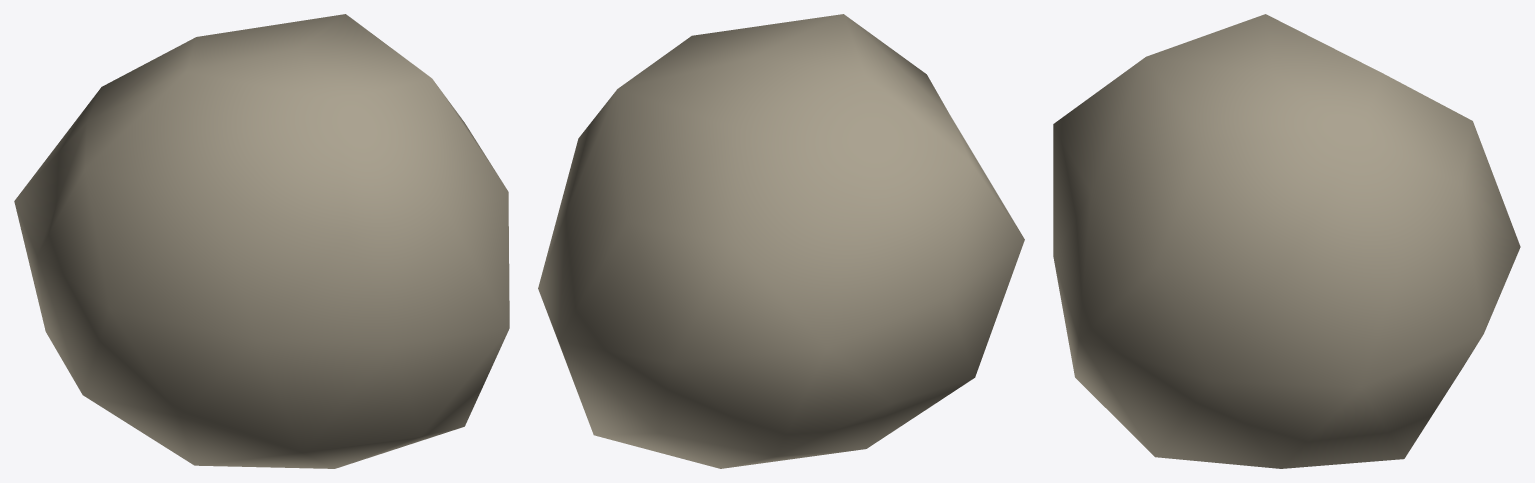
The model's file is material-stone-1.glb.
3 views of the same model, side by side, from view 1: azimuth 30°, elevation 25°; view 2: azimuth 150°, elevation 25°; view 3: azimuth 270°, elevation 25° (orthographic). The views are drawn at different scales.
Parts seen in each view (by area): view 1: Stone.001; view 2: Stone.001; view 3: Stone.001.
Part boxes in pixels (bbox=[...]): Stone.001: bbox=[14, 14, 509, 468]; Stone.001: bbox=[538, 14, 1024, 468]; Stone.001: bbox=[1053, 14, 1520, 468].
Bounding box in the file's own units: 0.9118 × 0.8322 × 0.954.
